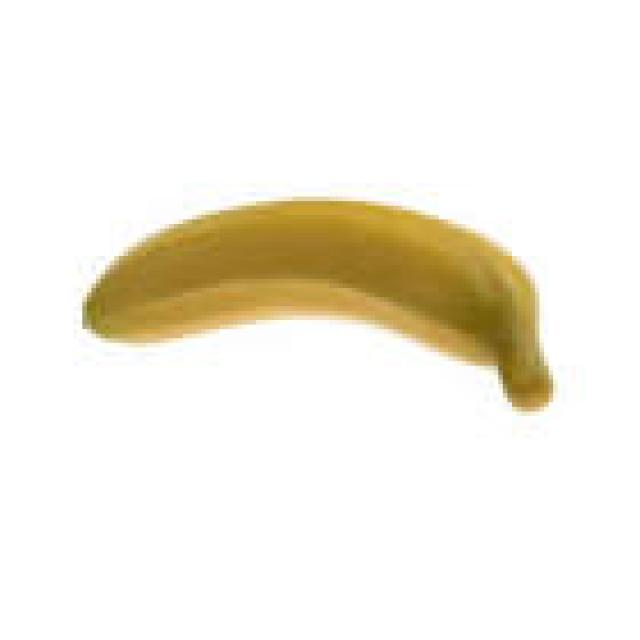Ripe: (79, 188, 563, 417)
